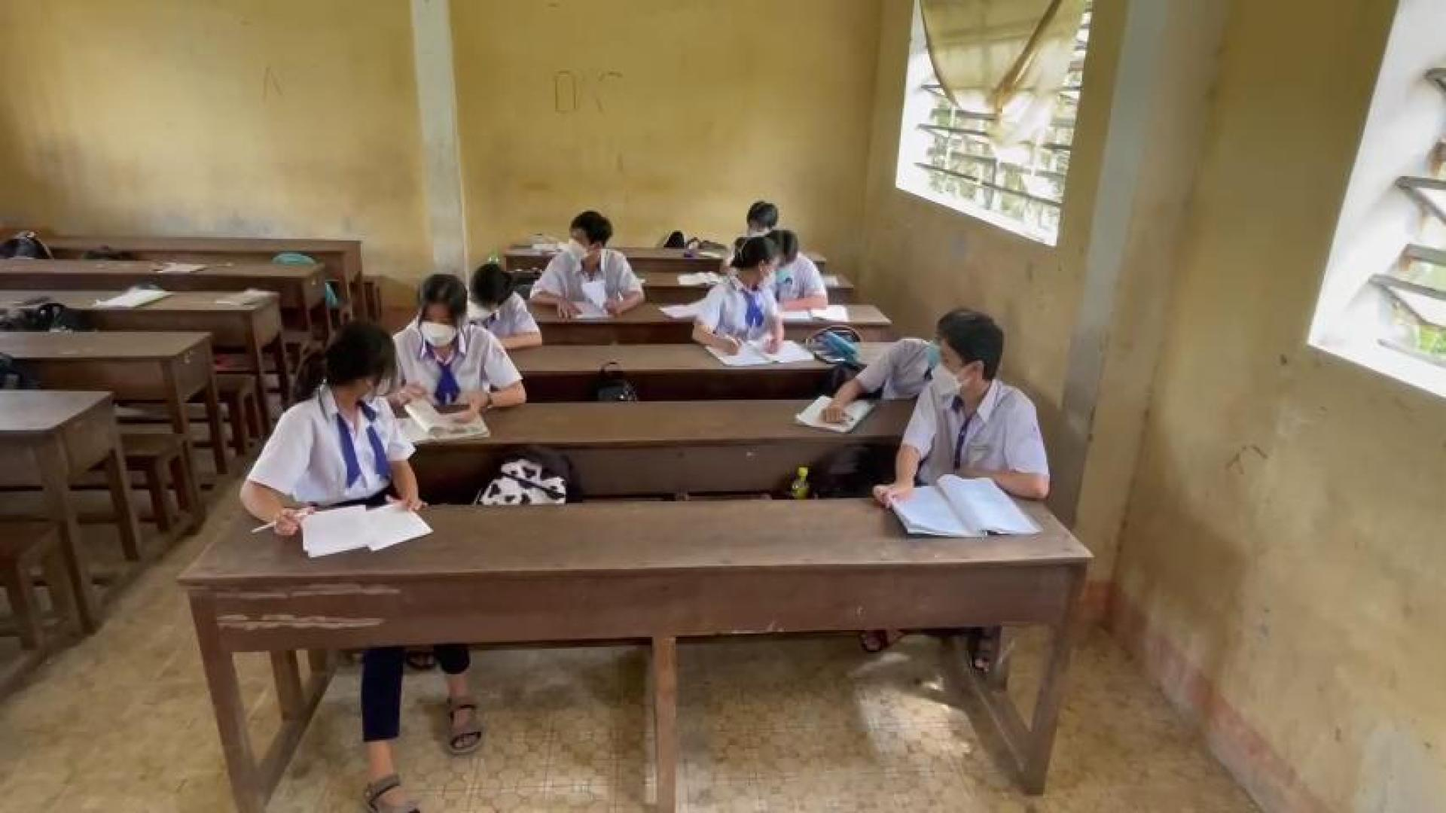Look Around: (298, 314, 400, 410), (904, 314, 1006, 410), (708, 224, 779, 300), (552, 200, 621, 274)
